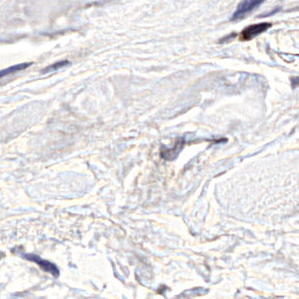Lymphocyte: (239, 19, 272, 43)
